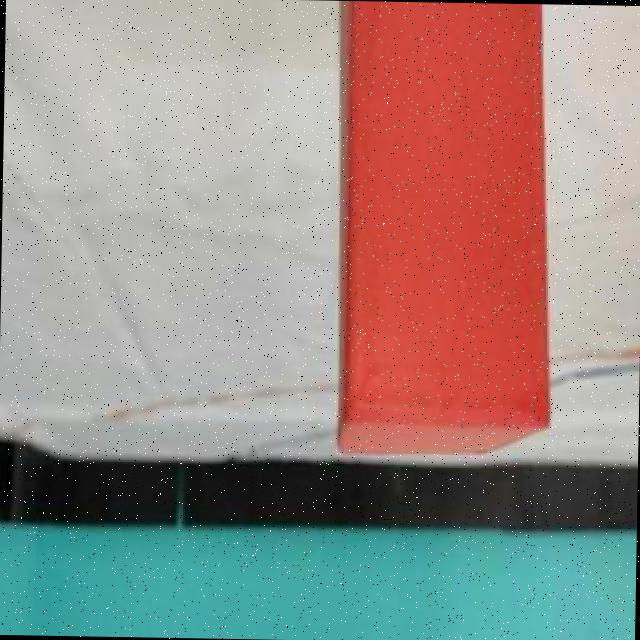redbox: (342, 1, 542, 452)
